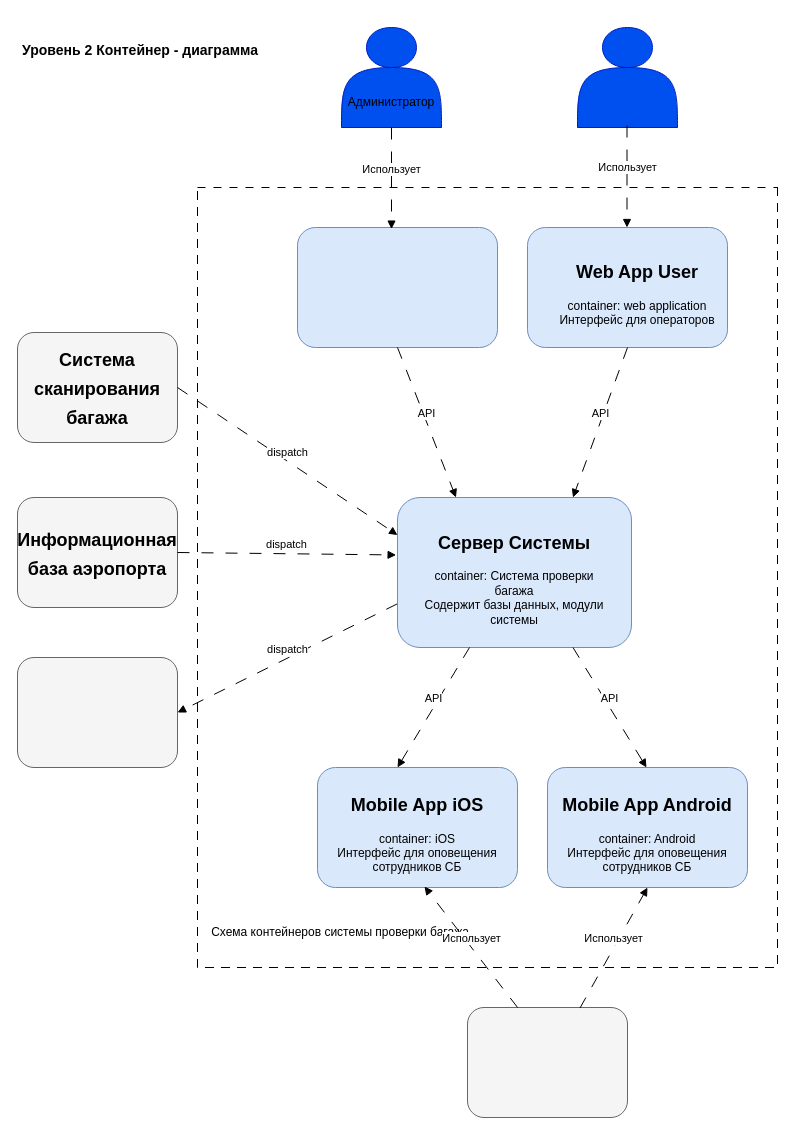
The diagram is 796 pixels wide and 1135 high, and some of its shapes have lost their labels. Here are the shapes that lost their labels. From the top down, the centre of each, then its label:
pixel 627 77: Оператор
pixel 397 287: Web App Admin container: web application Интерфейс для администраторов
pixel 97 712: Система контроля доступа
pixel 547 1062: Служба безопасности
